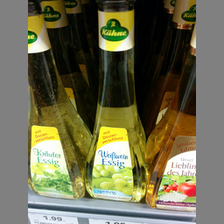vinegar: (85, 2, 151, 202), (29, 4, 92, 200), (147, 18, 197, 206)
